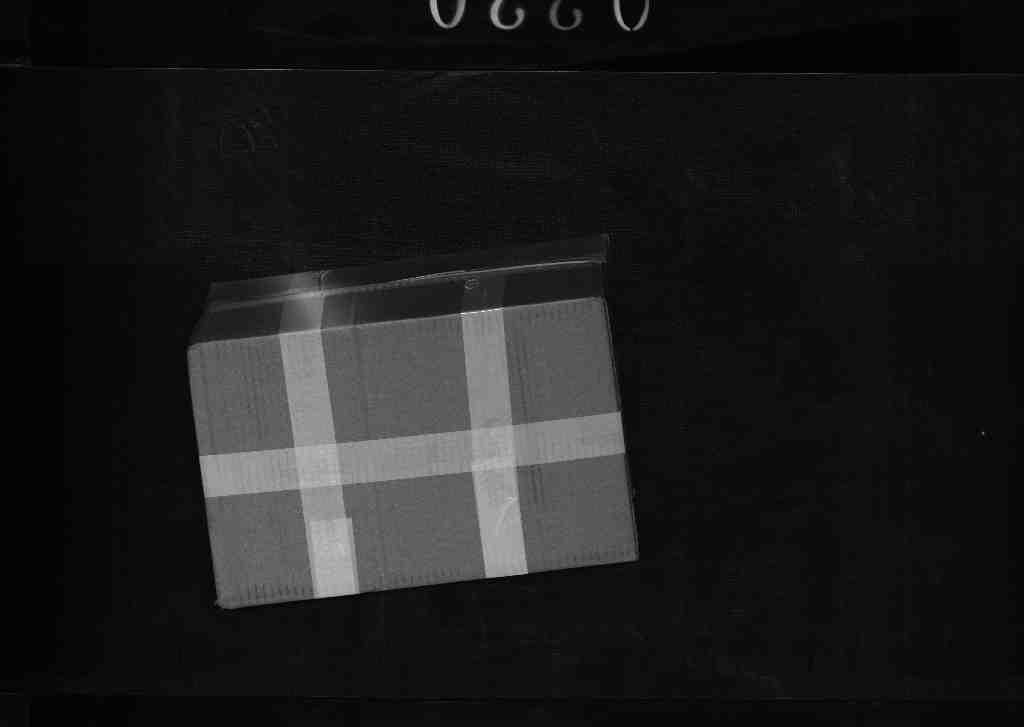box: (165, 256, 662, 612)
